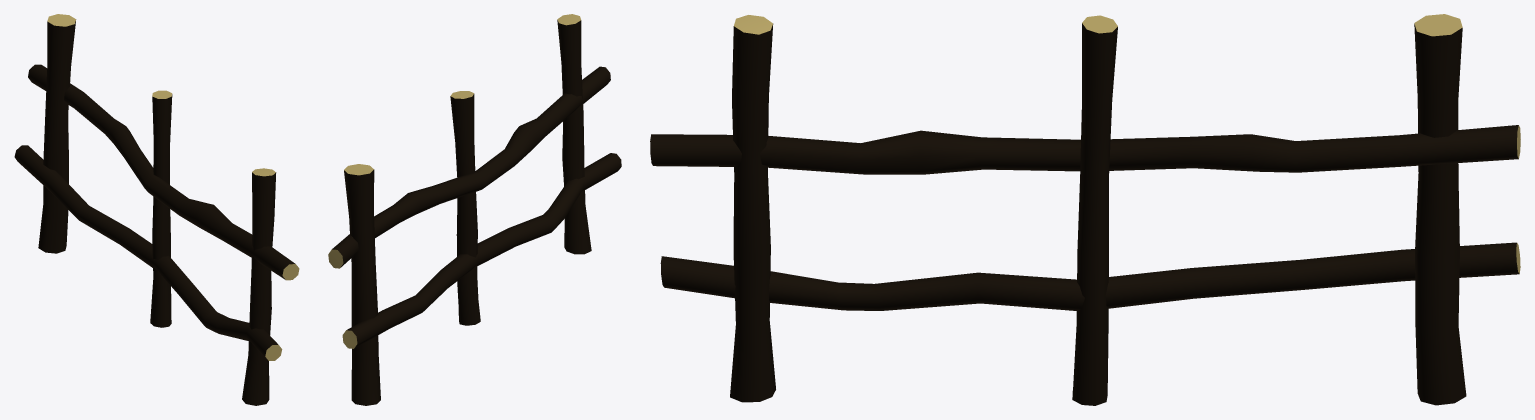
File: fence7.fbx
The picture shows the model from 3 angles, left to right: view 1: azimuth 30°, elevation 25°; view 2: azimuth 150°, elevation 25°; view 3: azimuth 270°, elevation 25°; orthographic projection. The views are drawn at different scales.
Parts seen in each view (by area): view 1: fence7_LOD0; view 2: fence7_LOD0; view 3: fence7_LOD0.
Boxes of the visible parts, x1,y1,x2,y2 form: fence7_LOD0: [14, 14, 299, 405]; fence7_LOD0: [328, 14, 621, 405]; fence7_LOD0: [650, 14, 1520, 405].
Size of what is drawn, in the model's own units: 28.01 by 146 by 303.
